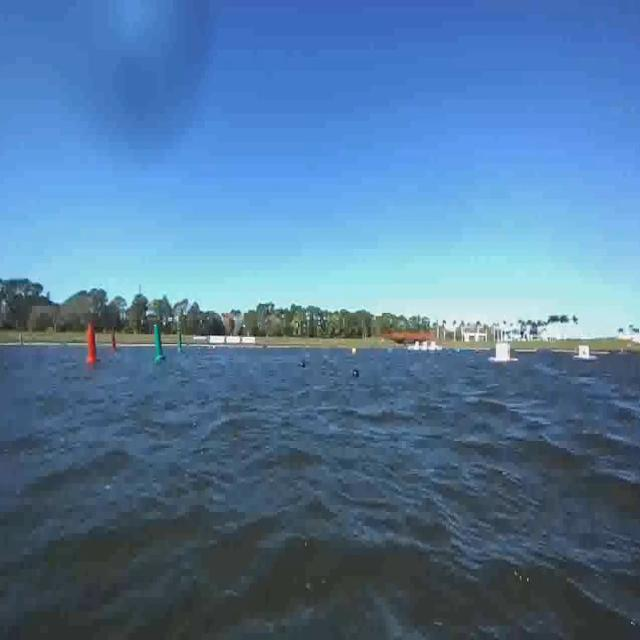black-buoy: (354, 369, 360, 379), (300, 362, 306, 368)
green-column-buoy: (152, 325, 165, 362), (178, 331, 183, 352)
red-column-buoy: (85, 322, 98, 365), (110, 329, 118, 352)
